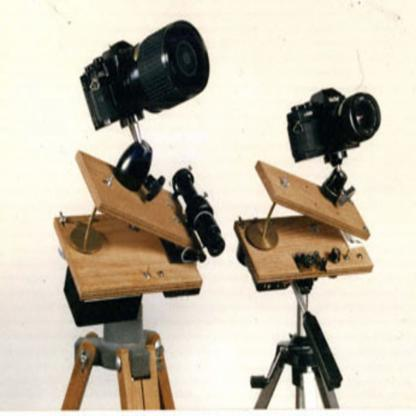Camera: (81, 18, 211, 127), (286, 84, 382, 171)
